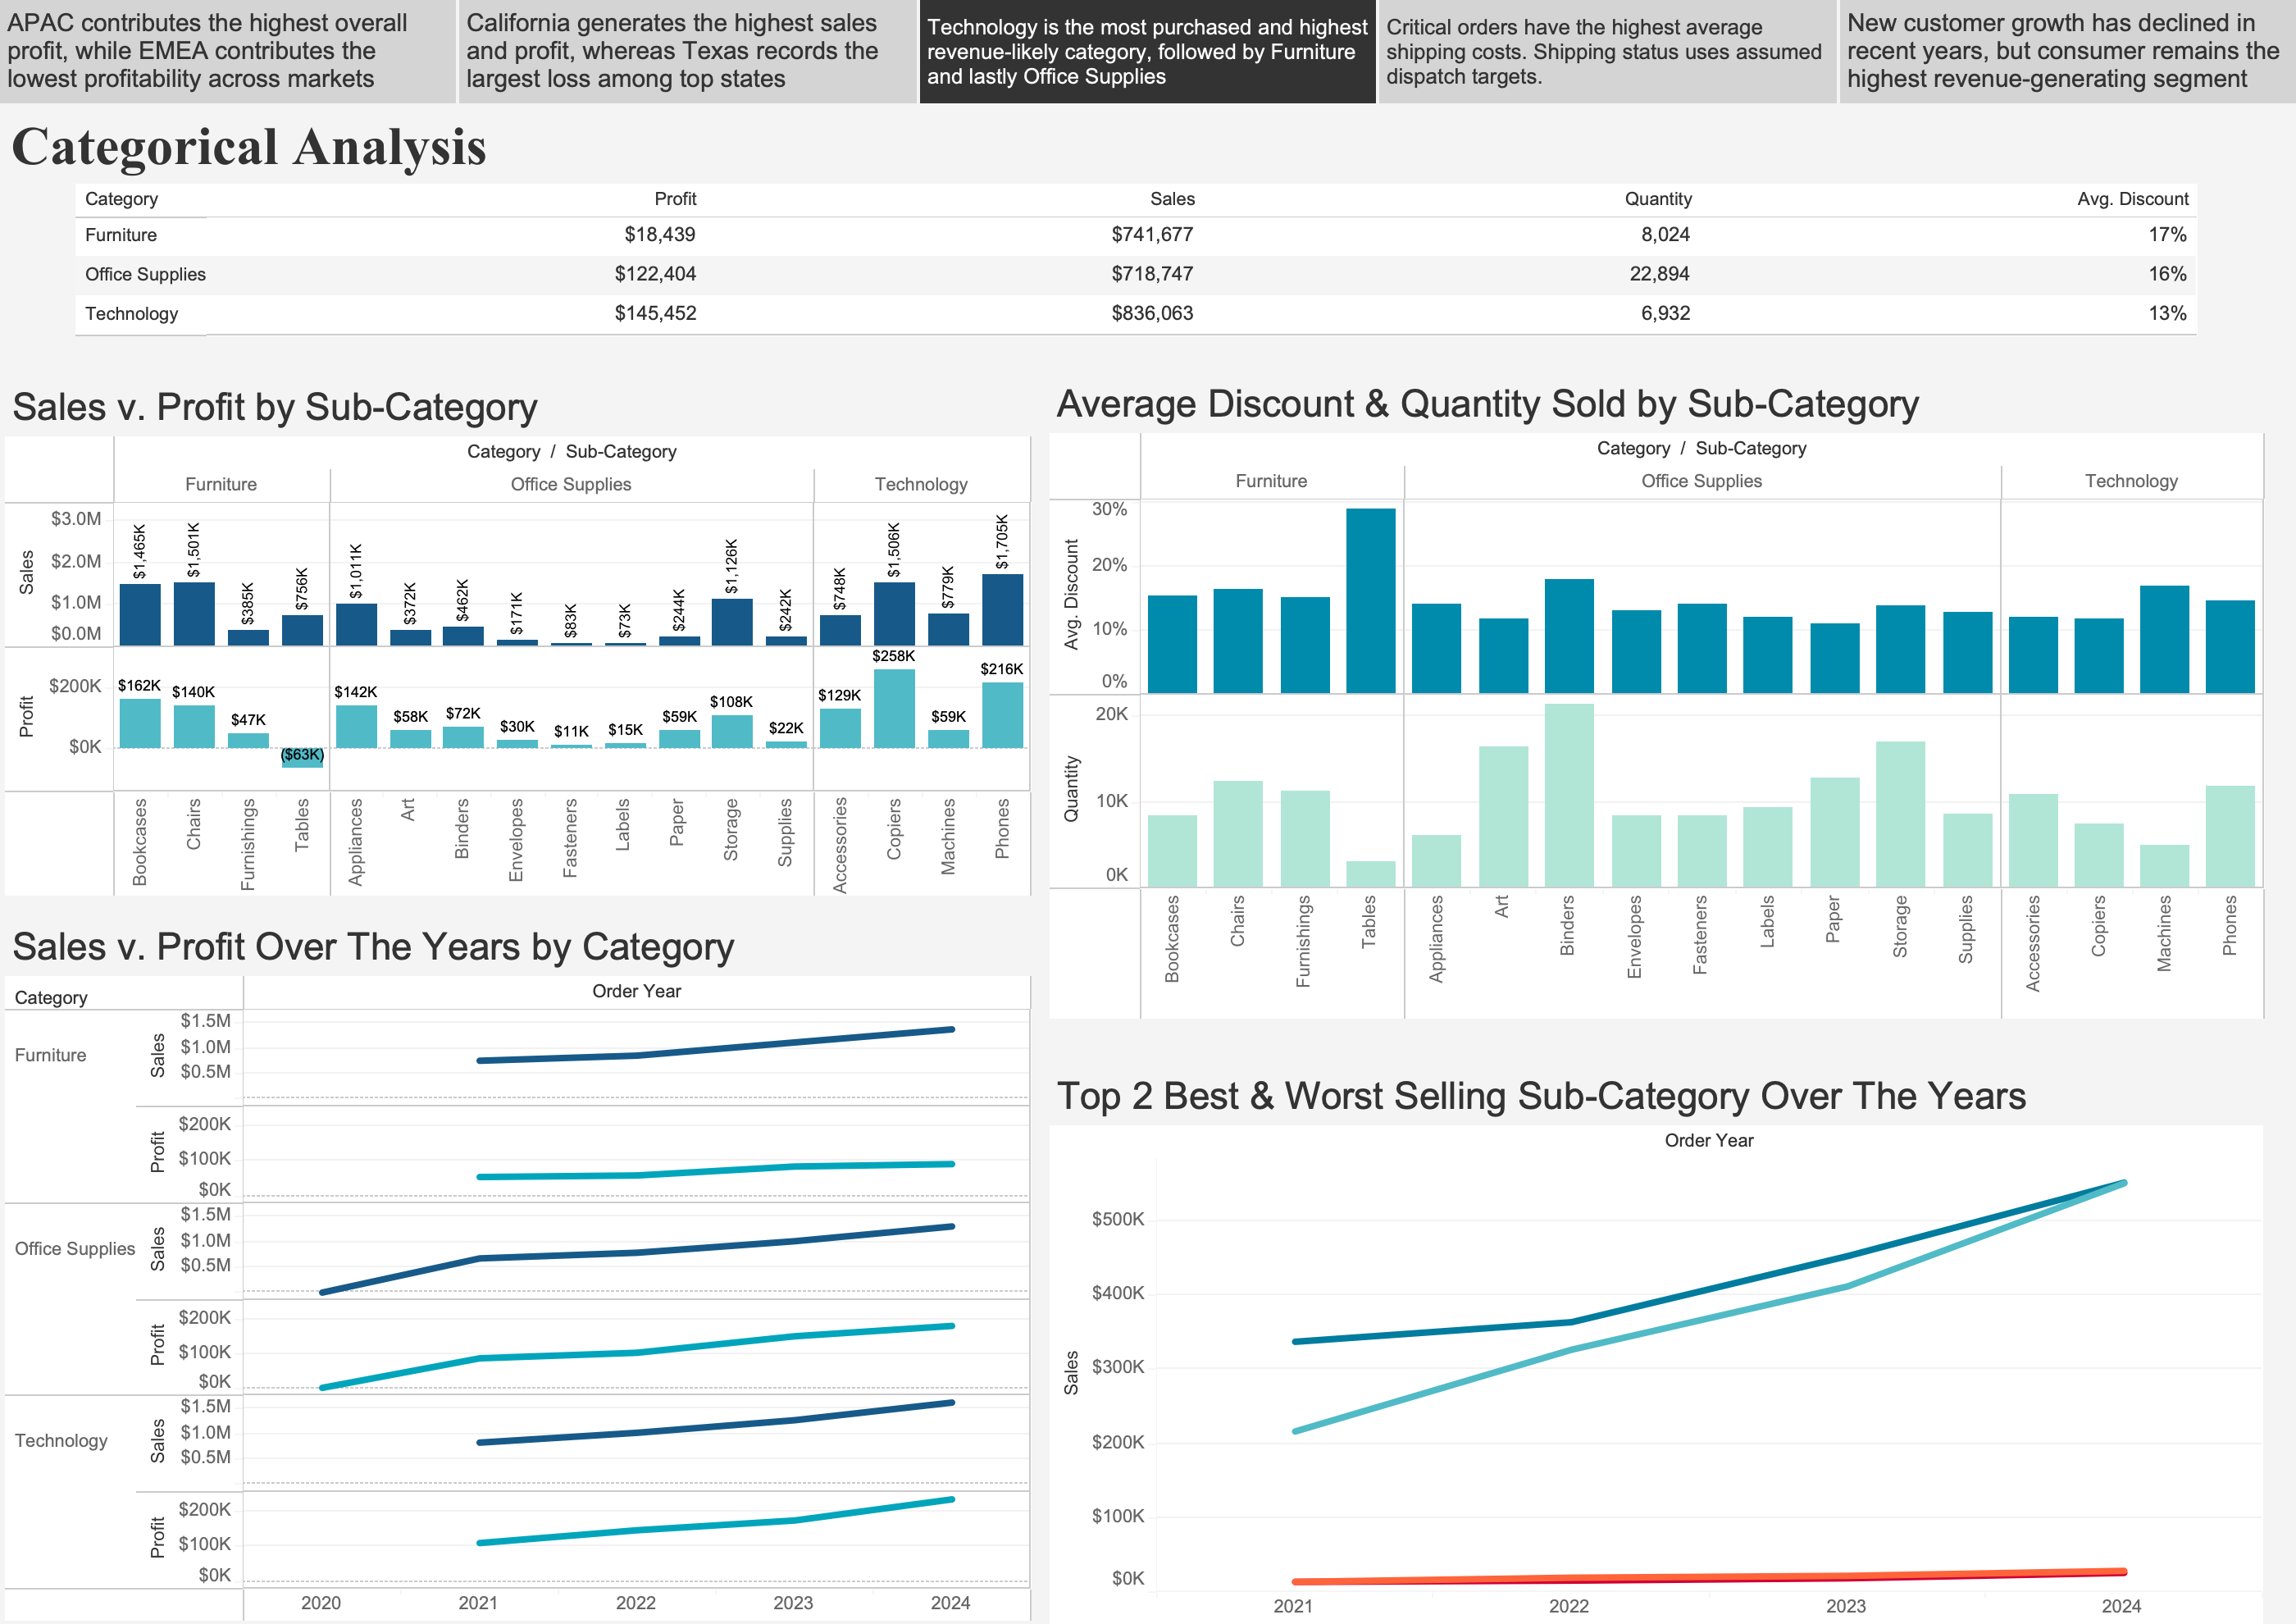

The dashboard page shown, as its layout file describes it:
{"tool":"tableau","page":{"name":"Categorical Analysis","canvas":[1400,990],"ordinal":2},"visuals":[{"type":"text","box":[12.4,10.9,272.2,60.6]},{"type":"text","box":[287,10.9,272.2,60.6]},{"type":"text","box":[561.6,10.9,272.2,60.6]},{"type":"text","box":[836.1,10.9,272.2,60.6]},{"type":"text","box":[1110.7,10.9,272.2,60.6]},{"type":"text","box":[14,75.4,1368.9,43.5]},{"type":"worksheet","title":"US category summary - source screenshot scope","mark":"Text","rows":["Category"],"box":[57.6,112.7,1267,96.4]},{"type":"text","box":[638.6,231.6,726.4,34.2]},{"type":"text","box":[15.6,233.1,612.9,34.2]},{"type":"worksheet","title":"Global sub-category discount and quantity","mark":"Bar","rows":["Discount","Quantity"],"cols":["Category","Sub-Category"],"box":[638.6,265.8,726.4,345.8]},{"type":"worksheet","title":"Global sub-category sales and profit","mark":"Bar","rows":["Sales","Profit"],"cols":["Category","Sub-Category"],"box":[15.6,267.3,612.9,271.2]},{"type":"text","box":[15.6,550.9,612.9,34.2]},{"type":"worksheet","title":"Global category sales and profit over years","mark":"Line","rows":["Category","Sales","Profit"],"cols":["Order Year"],"box":[15.6,585.1,612.9,380.8]},{"type":"text","box":[638.6,638.8,723.3,34.2]},{"type":"worksheet","title":"Best and worst sub-categories over years","mark":"Line","rows":["Sales"],"cols":["Order Year"],"box":[638.6,673,723.3,293.7]}]}

Visuals, with their boxes in screenshot pixels (x1, y1, x2, y2), scaled from the page's 1400x990 canvas onto the 2296x1624 screenshot:
text: x1=20 y1=18 x2=467 y2=117
text: x1=471 y1=18 x2=917 y2=117
text: x1=921 y1=18 x2=1368 y2=117
text: x1=1371 y1=18 x2=1818 y2=117
text: x1=1821 y1=18 x2=2268 y2=117
text: x1=23 y1=124 x2=2268 y2=195
"US category summary - source screenshot scope" worksheet (Text marks): x1=94 y1=185 x2=2172 y2=343
text: x1=1047 y1=380 x2=2239 y2=436
text: x1=25 y1=382 x2=1031 y2=439
"Global sub-category discount and quantity" worksheet (Bar marks): x1=1047 y1=436 x2=2239 y2=1003
"Global sub-category sales and profit" worksheet (Bar marks): x1=25 y1=439 x2=1031 y2=883
text: x1=25 y1=904 x2=1031 y2=960
"Global category sales and profit over years" worksheet (Line marks): x1=25 y1=960 x2=1031 y2=1585
text: x1=1047 y1=1048 x2=2234 y2=1104
"Best and worst sub-categories over years" worksheet (Line marks): x1=1047 y1=1104 x2=2234 y2=1585
